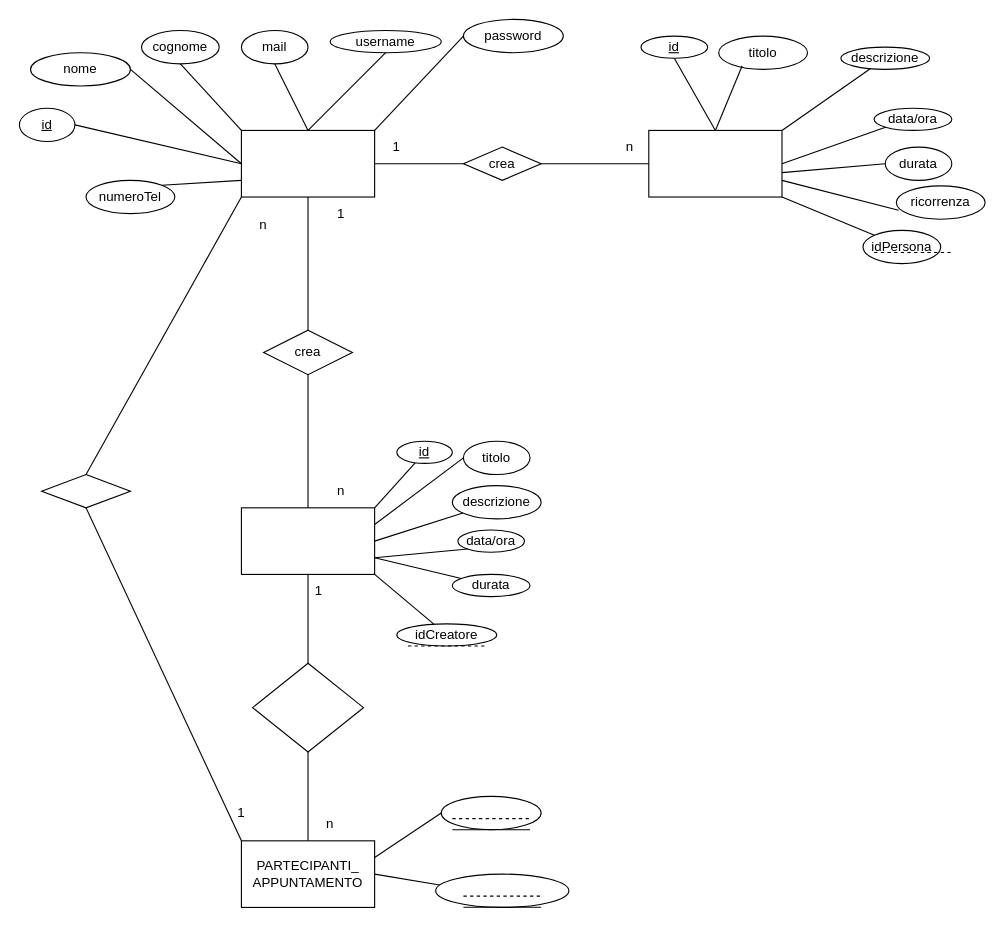
The diagram is 1005 pixels wide and 928 high, and some of its shapes have lost their labels. The shapes that lost their labels are listed below. From the top down, each one's centre as x and y in pixels, then its label:
the point at 307,163: PERSONA
the point at 715,163: PROMEMORIA
the point at 85,490: partecipa
the point at 307,540: APPUNTAMENTO
the point at 307,707: a cui partecipano
the point at 490,812: idpartecipanti
the point at 502,890: idAppuntamento
